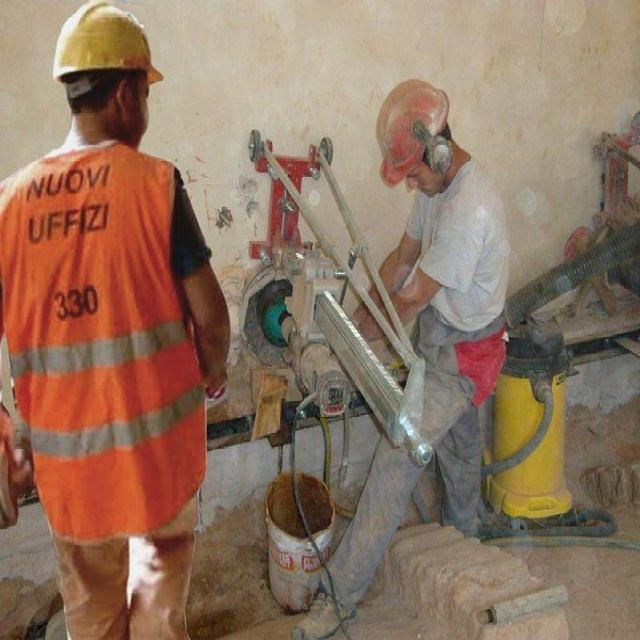vest: (3, 136, 219, 481)
